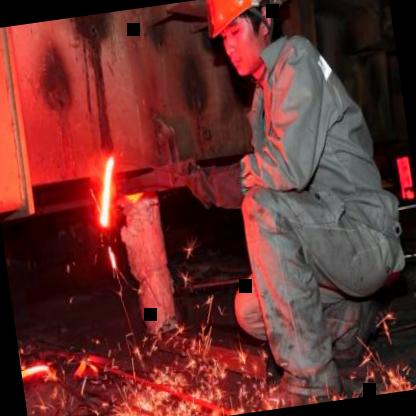helmet: (201, 0, 286, 83)
